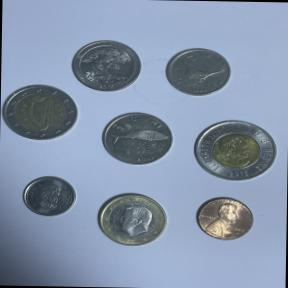1 Euro-B: (91, 191, 174, 252)
2 Euro-B: (0, 81, 80, 145)
Canada-10cent-B: (19, 173, 79, 222)
Canada-2Dollar-B: (188, 114, 281, 188)
Croatia-2Kune-B: (98, 108, 177, 172)
US-1cent-B: (191, 194, 258, 245)
US-25cent-B: (67, 38, 145, 94)
